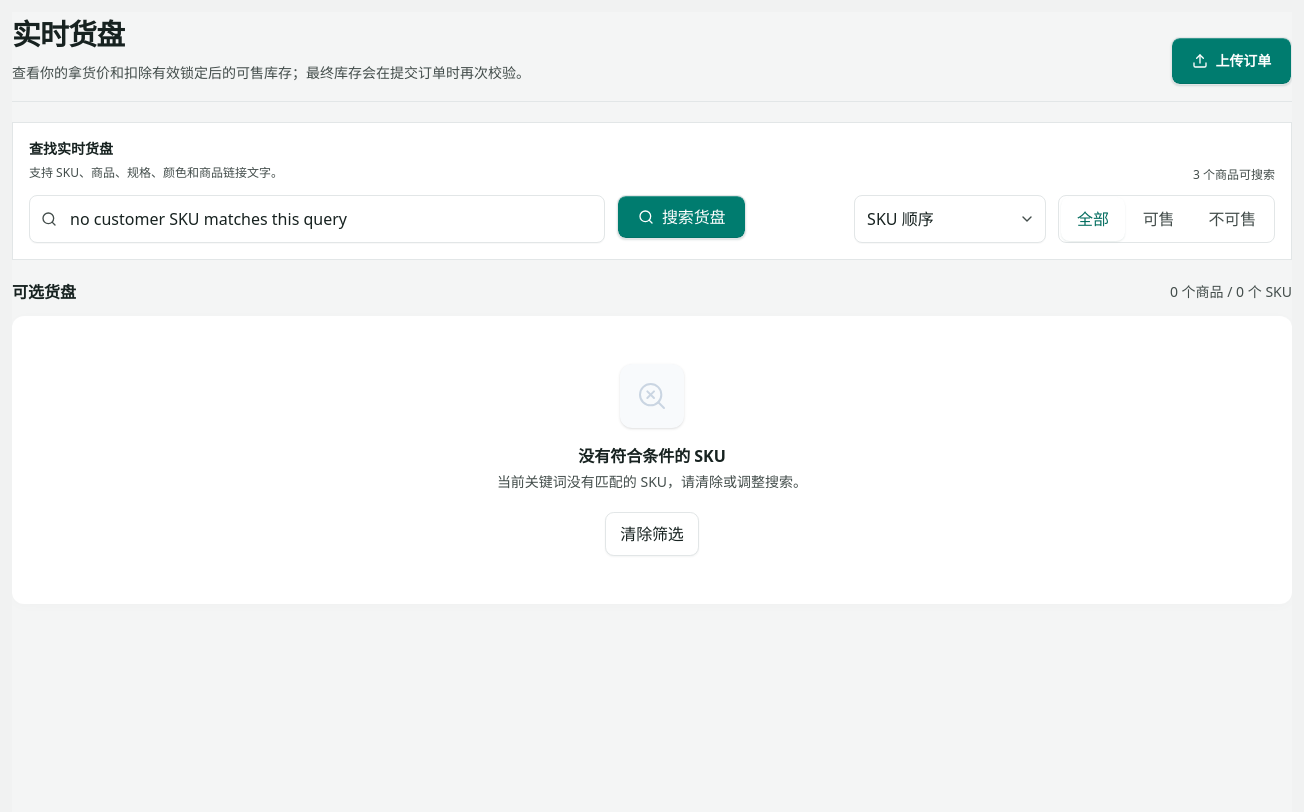
Test: catalog workspaces › clears a no-result customer query and availability filter locally
Click the button with aria-label "只看可售 SKU" at (1159, 219), box left=1127, top=197, right=1190, bottom=241
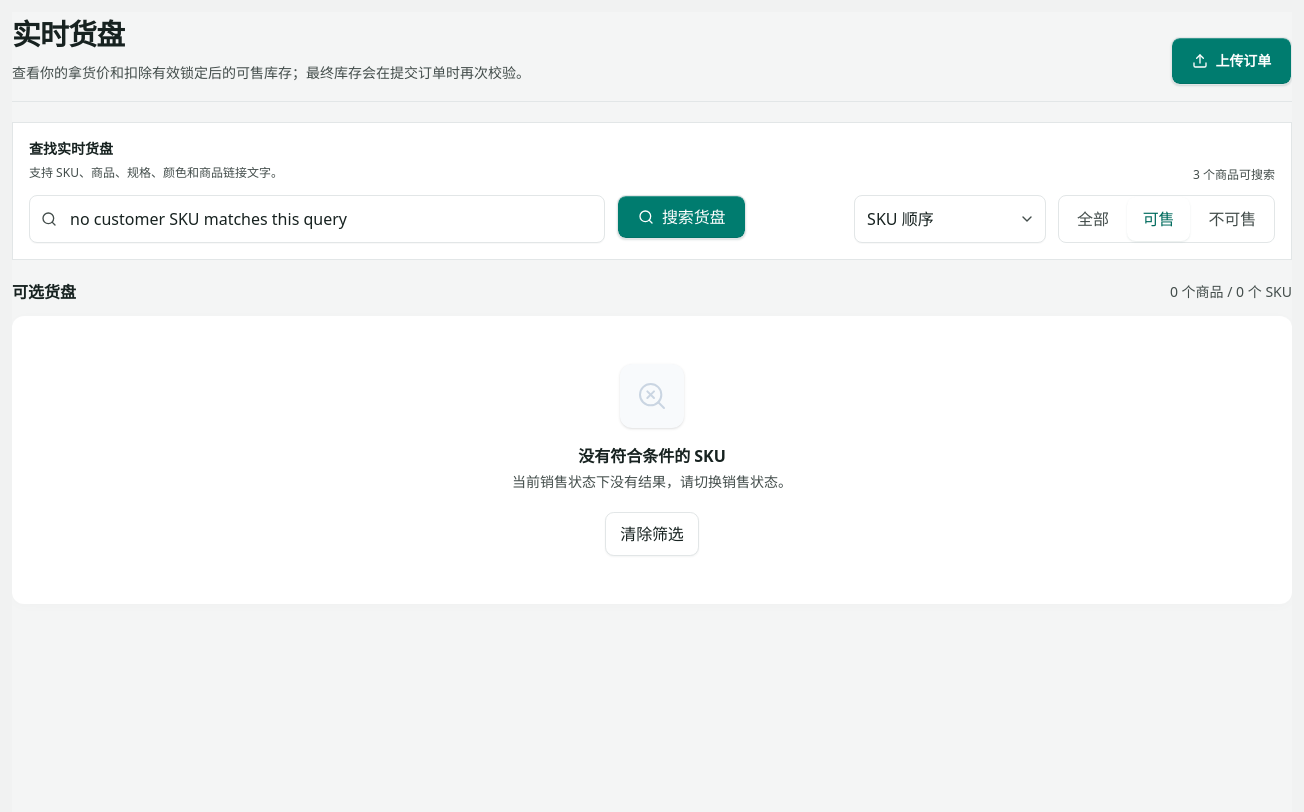
Expected: the heading "没有符合条件的 SKU" is shown, left=578, top=445, right=726, bottom=467
Click the button "清除筛选" at (652, 534), box left=605, top=512, right=699, bottom=556
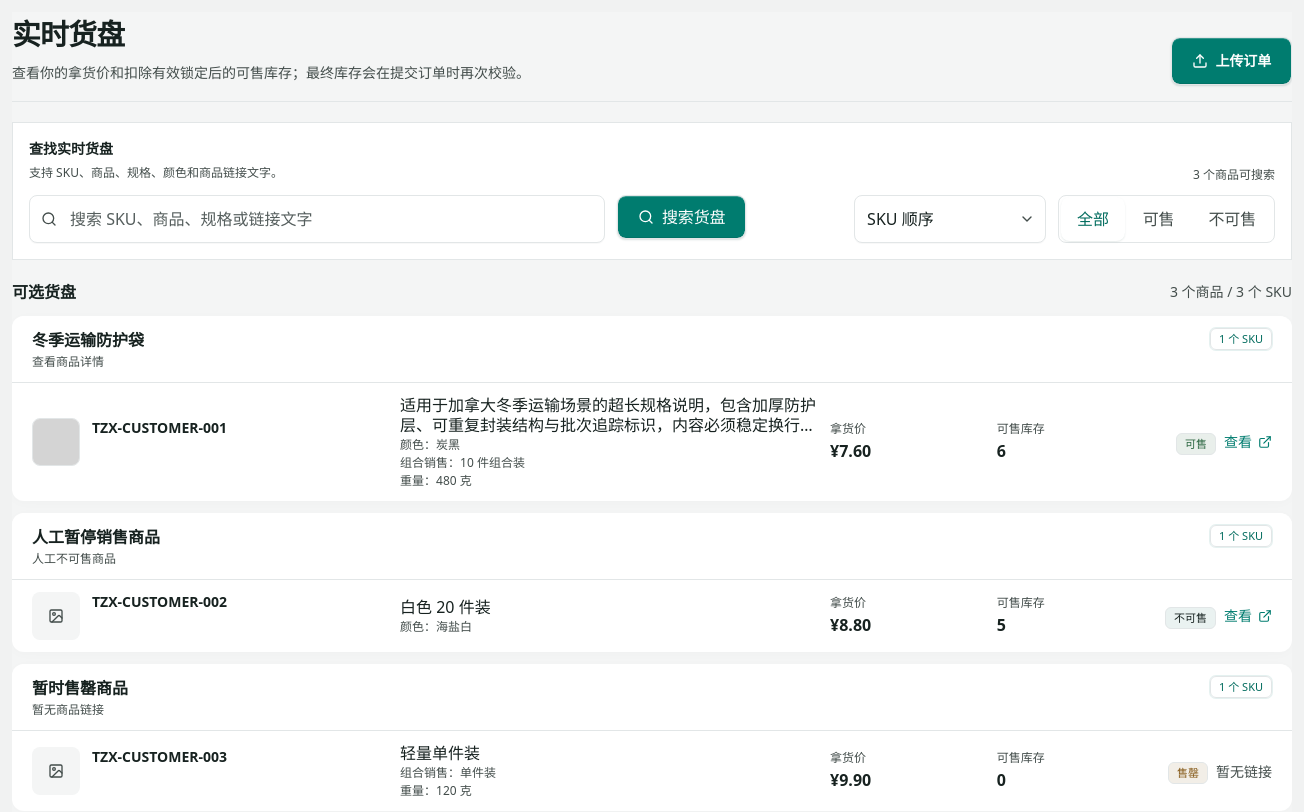
Expected: the search field is empty, left=29, top=195, right=605, bottom=243
Expected: the text "3 个商品 / 3 个 SKU" is shown, left=1170, top=282, right=1292, bottom=302
Expected: the number of icons "可售" is 1, left=1176, top=433, right=1216, bottom=455
